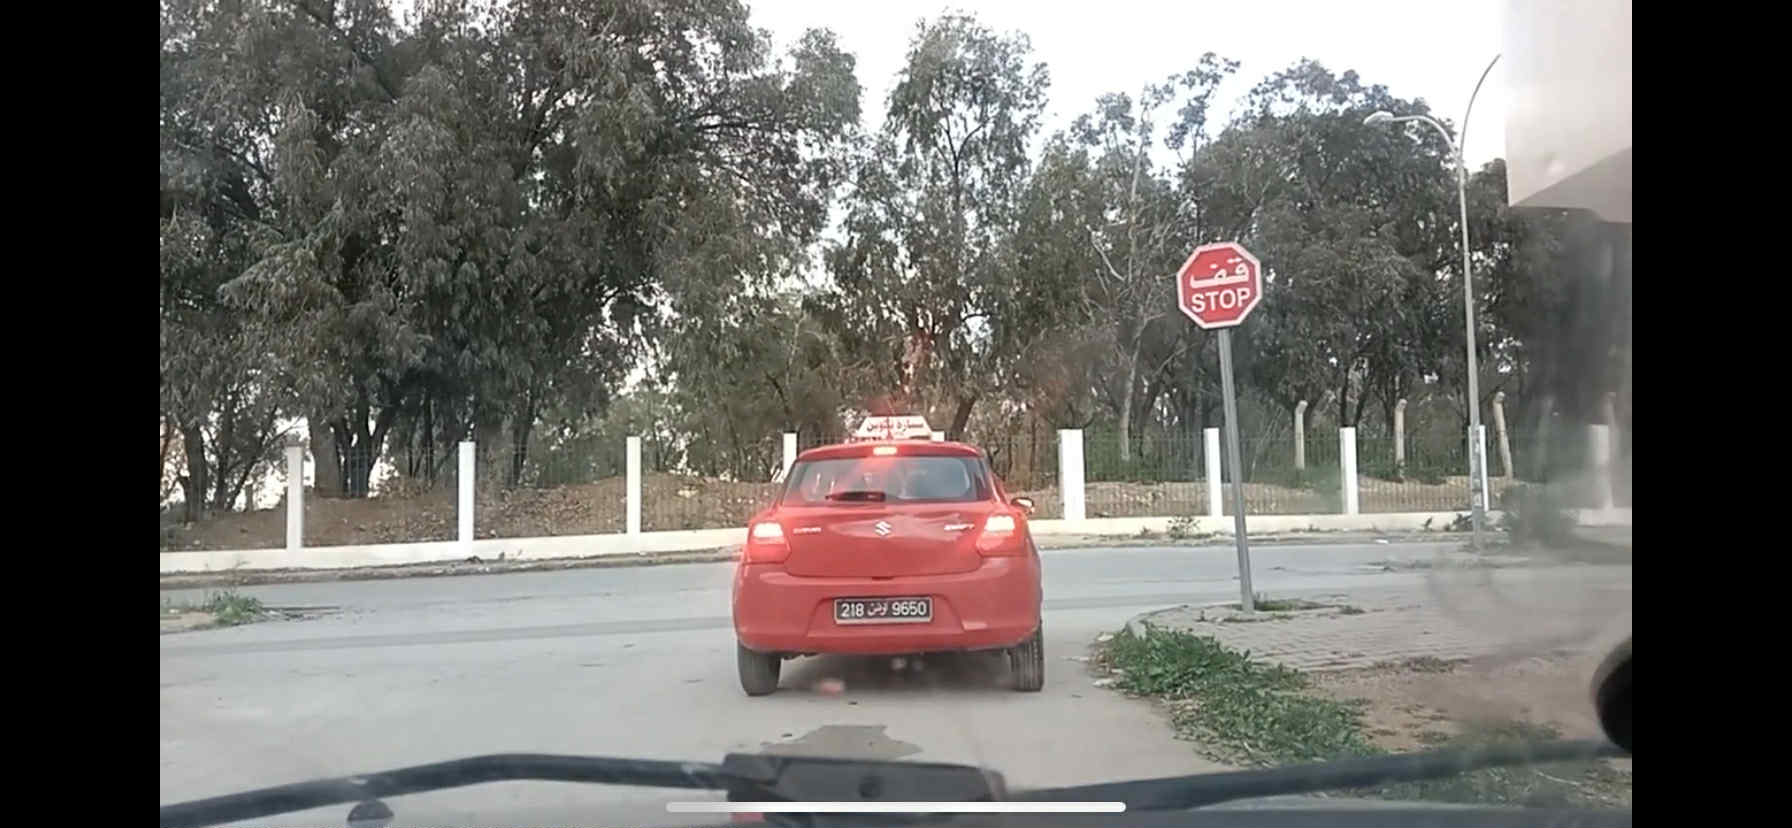Stop: (1176, 241, 1263, 329)
